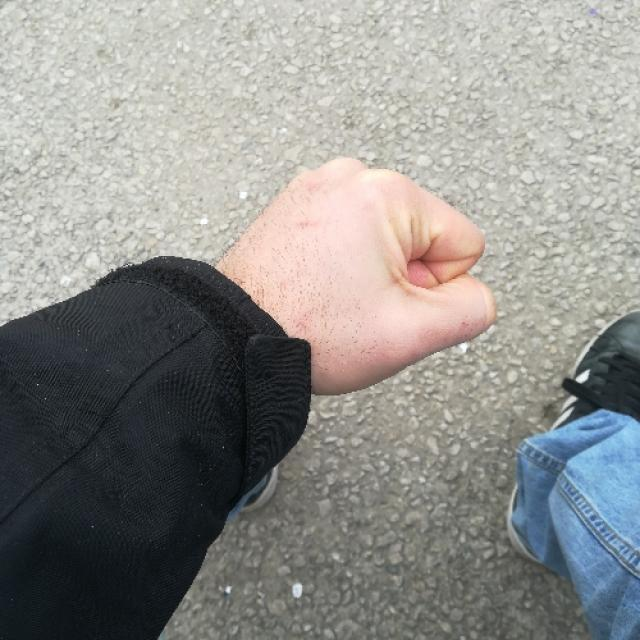rock: (225, 154, 498, 363)
